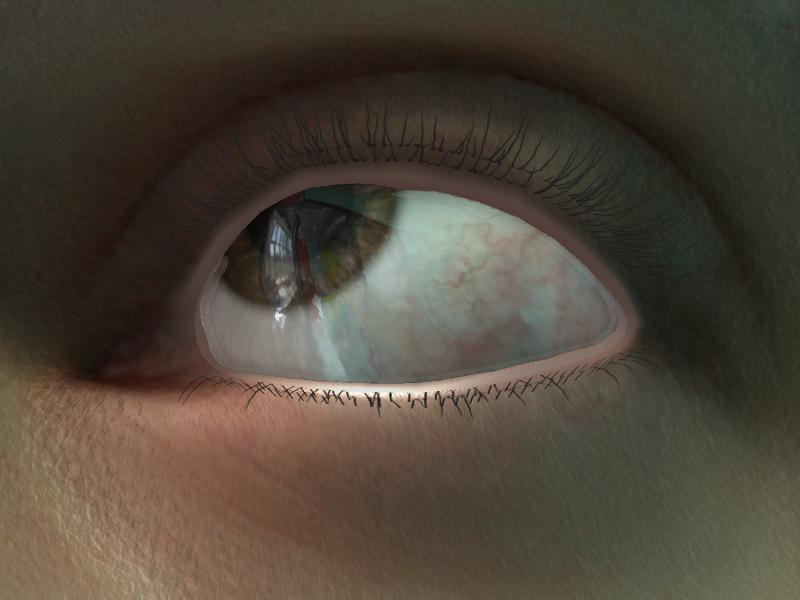eye: (216, 180, 408, 308)
